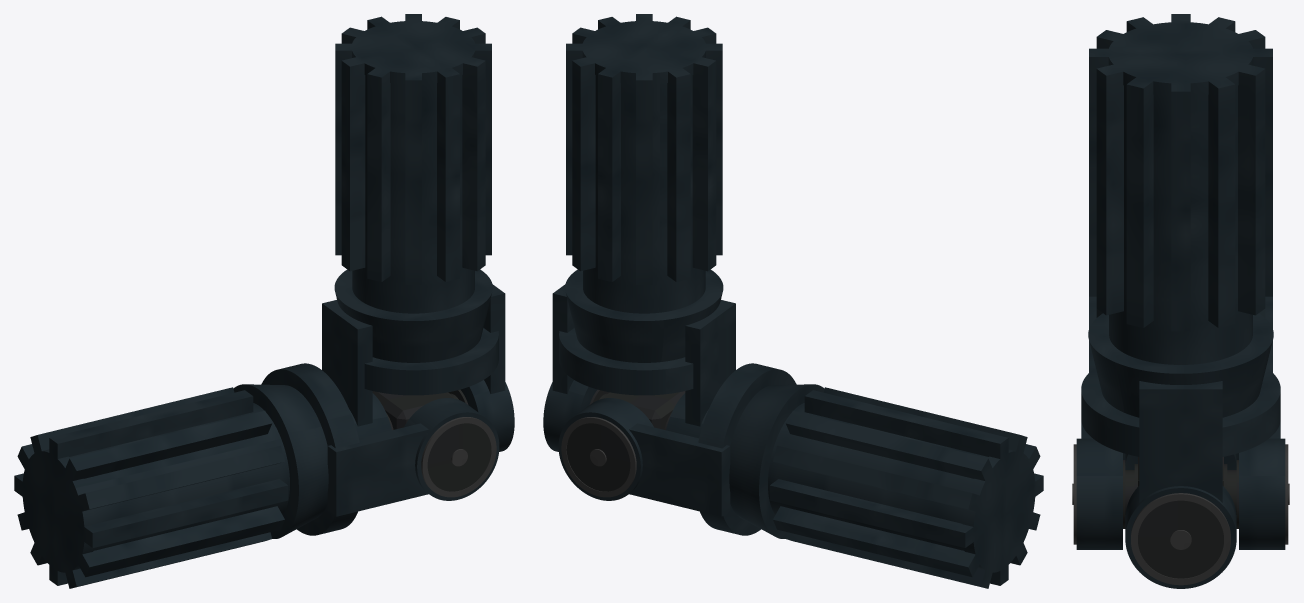
File: universal_joint__0002.glb
3 views of the same model, side by side, from view 1: azimuth 30°, elevation 25°; view 2: azimuth 150°, elevation 25°; view 3: azimuth 270°, elevation 25° (orthographic). The views are drawn at different scales.
Parts seen in each view (by area): view 1: shaft_yoke_b::shaft_yoke, shaft_yoke_a::shaft_yoke, shaft_yoke_a::cap_neg, shaft_yoke_a::retaining_ring_neg, spider::spider_center; view 2: shaft_yoke_b::shaft_yoke, shaft_yoke_a::shaft_yoke, shaft_yoke_a::cap_pos, shaft_yoke_a::retaining_ring_pos, spider::spider_center; view 3: shaft_yoke_b::shaft_yoke, shaft_yoke_a::shaft_yoke, shaft_yoke_b::cap_pos, shaft_yoke_b::retaining_ring_pos, spider::journal_y, shaft_yoke_a::retaining_ring_neg, shaft_yoke_a::retaining_ring_pos, shaft_yoke_b::cap_dimple_pos.
Part boxes in pixels (x1,y1,x2,y2): shaft_yoke_b::shaft_yoke: (322,14,514,451); shaft_yoke_a::shaft_yoke: (14,363,499,588); shaft_yoke_a::cap_neg: (427,423,491,491); shaft_yoke_a::retaining_ring_neg: (421,417,496,497); spider::spider_center: (372,391,453,429); shaft_yoke_b::shaft_yoke: (543,14,735,451); shaft_yoke_a::shaft_yoke: (558,363,1043,588); shaft_yoke_a::cap_pos: (566,423,630,491); shaft_yoke_a::retaining_ring_pos: (561,417,636,497); spider::spider_center: (604,391,685,429); shaft_yoke_b::shaft_yoke: (1081,14,1280,588); shaft_yoke_a::shaft_yoke: (1076,296,1285,549); shaft_yoke_b::cap_pos: (1138,500,1223,578); shaft_yoke_b::retaining_ring_pos: (1131,493,1230,585); spider::journal_y: (1125,464,1236,514); shaft_yoke_a::retaining_ring_neg: (1073,444,1076,544); shaft_yoke_a::retaining_ring_pos: (1285,444,1288,544); shaft_yoke_b::cap_dimple_pos: (1170,530,1191,549).
Bounding box in the file's own units: 0.1284 × 0.1265 × 0.0468.
Materials: 3 (3 with a texture image).
